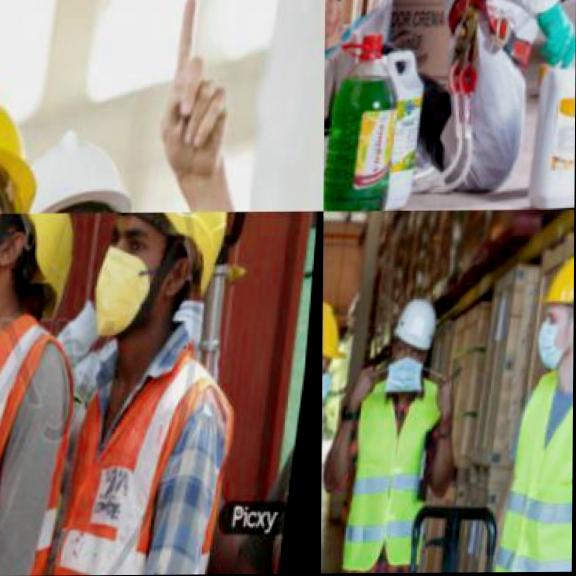safety_vest: (53, 351, 240, 576), (0, 305, 83, 576), (347, 381, 453, 570), (493, 374, 573, 572)
